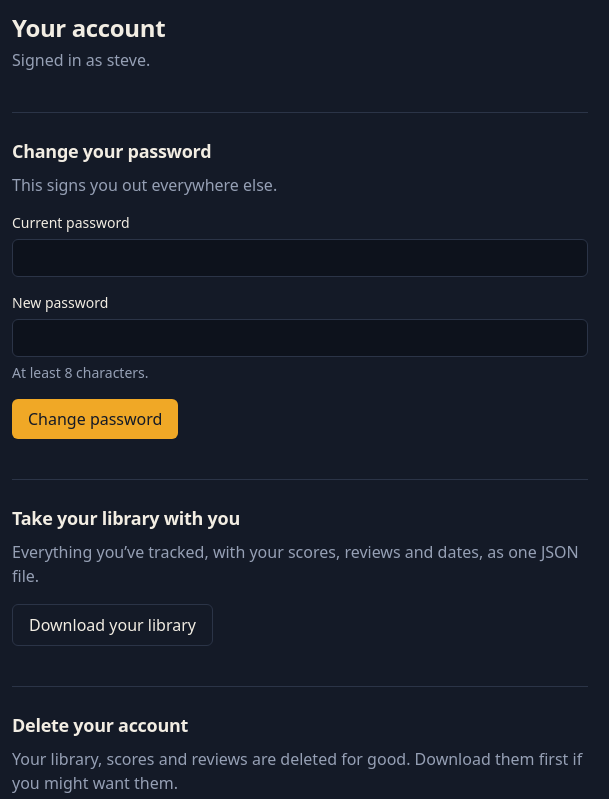
Test: AccountPage › puts a wrong current password next to the field
Type "a guess" into the password field labelled "Current password" at x=300, y=258, box 12,239 -> 588,277
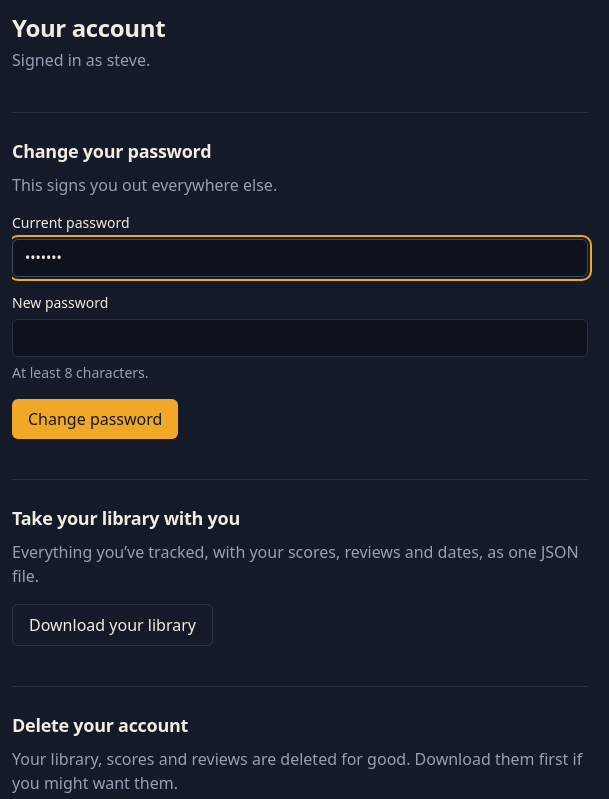
Type "a much better one" into the password field labelled "New password At least 8 characters." at x=300, y=338, box 12,319 -> 588,357
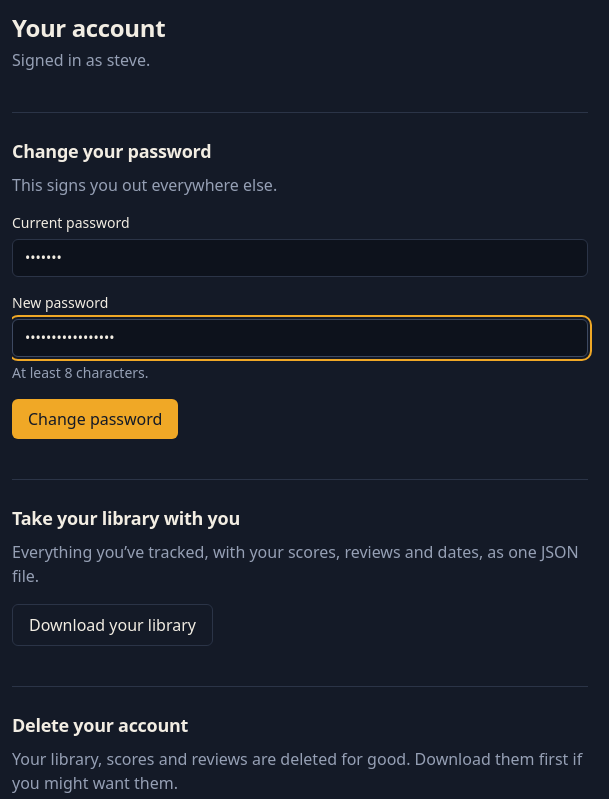
Click the button "Change password" at x=95, y=419, box 12,399 -> 178,439
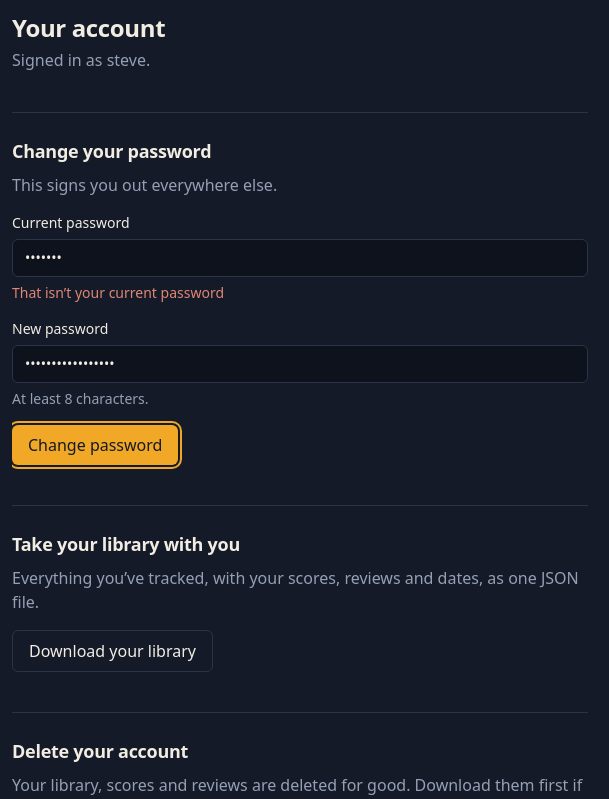
Expected: the text "That isn’t your current password" is shown, 12,283 -> 224,302
